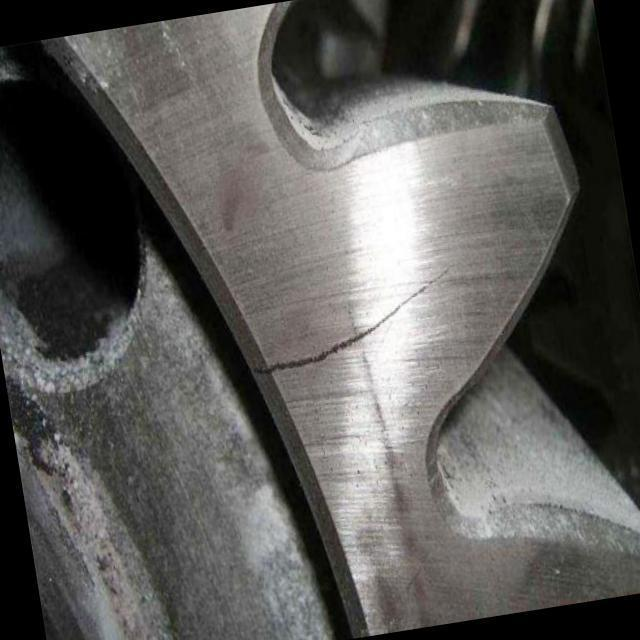defect: (245, 263, 454, 380)
